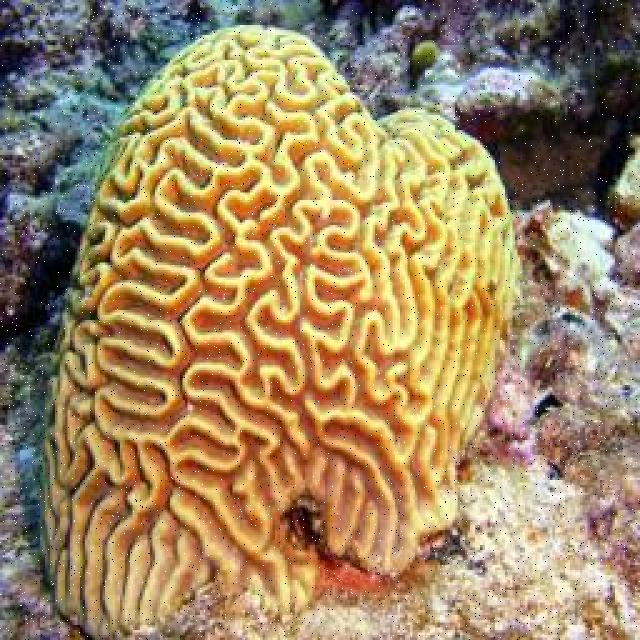reefs: (36, 22, 528, 638)
